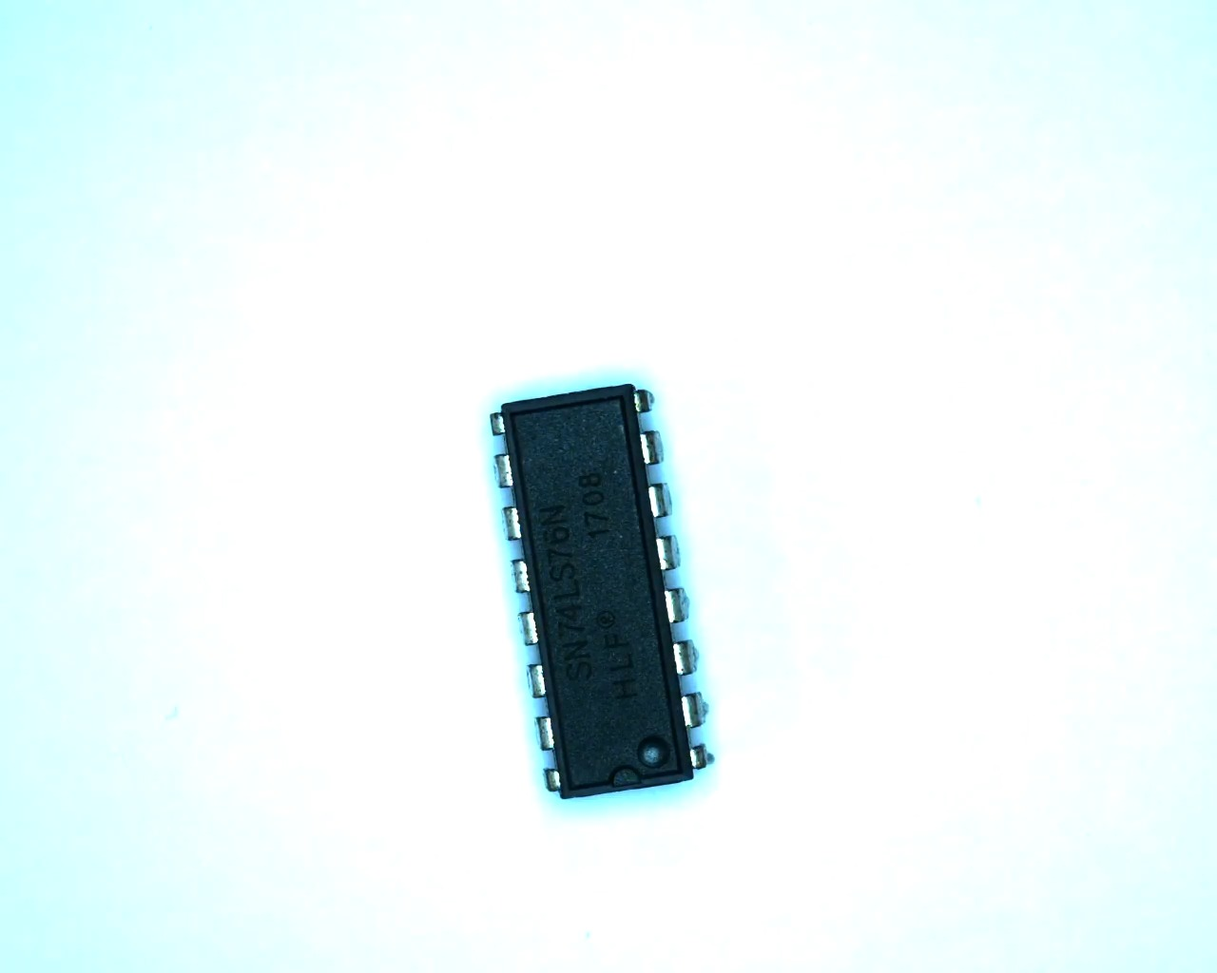IC: (476, 372, 728, 820)
notch: (607, 762, 648, 793)
